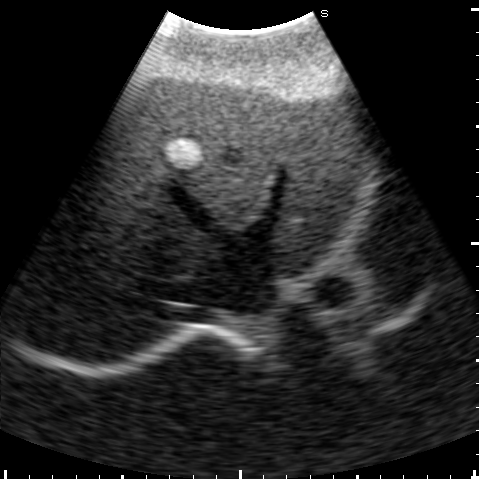S2: (272, 121, 367, 279)
S4: (126, 78, 291, 228)
S7: (20, 241, 175, 357)
S8: (82, 123, 217, 278)
Tumor: (162, 138, 203, 169)
